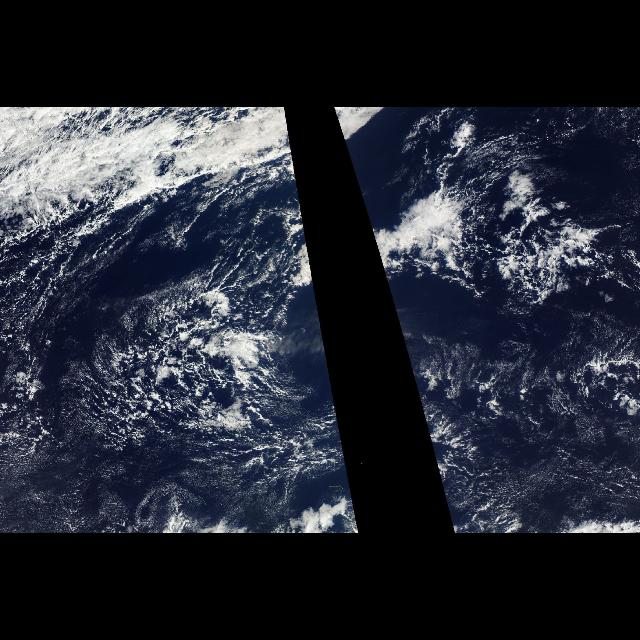Sugar: (460, 420, 638, 510)
